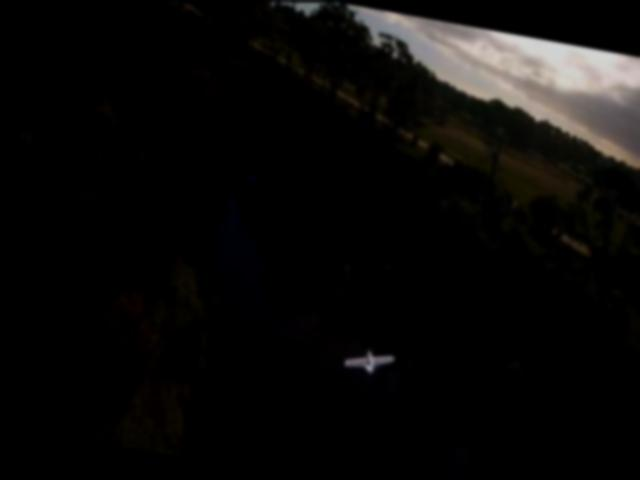uav: (337, 343, 395, 377)
